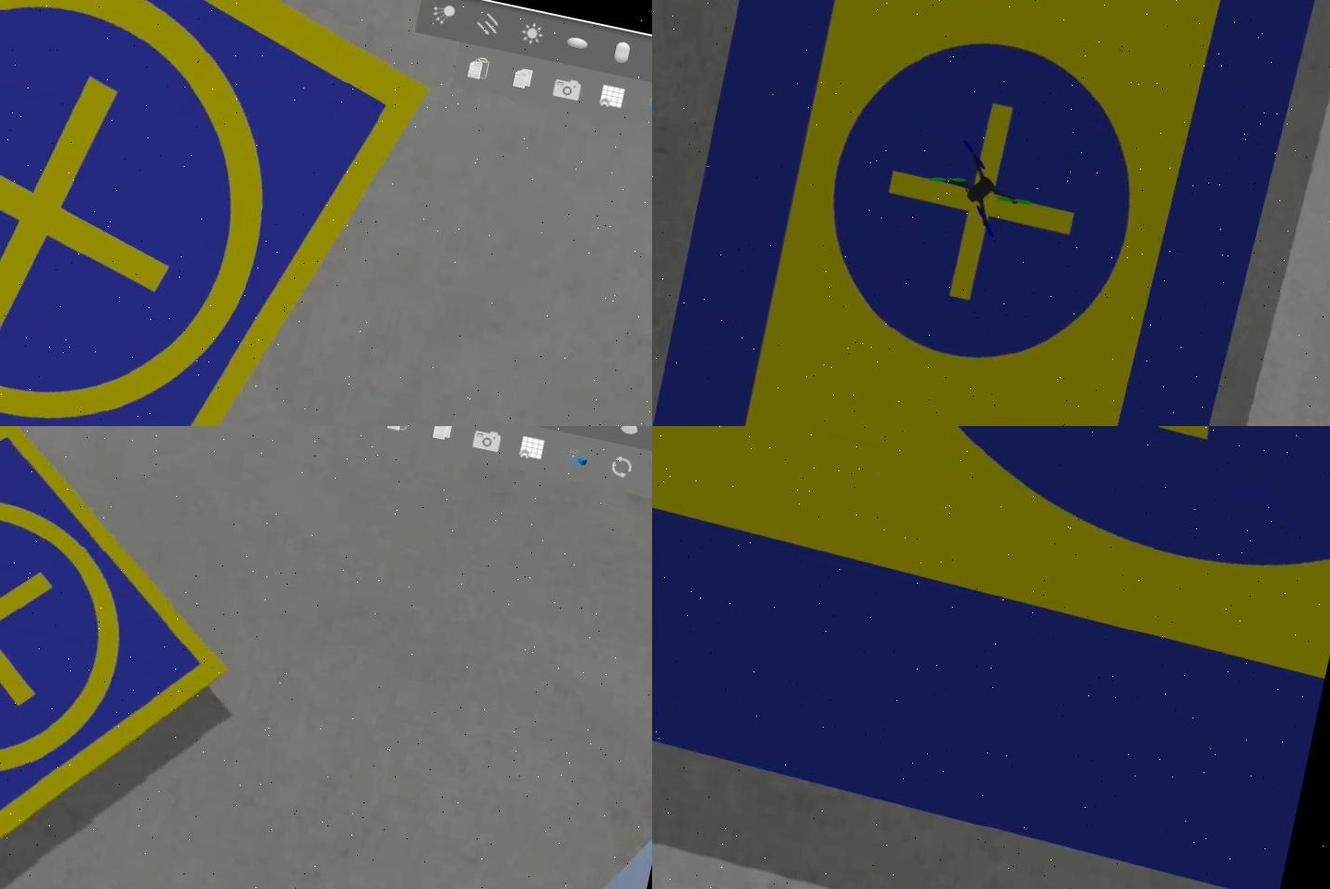large_base: (651, 426, 1328, 889), (651, 1, 1325, 426)
small_base: (0, 1, 449, 426), (0, 426, 270, 889)
